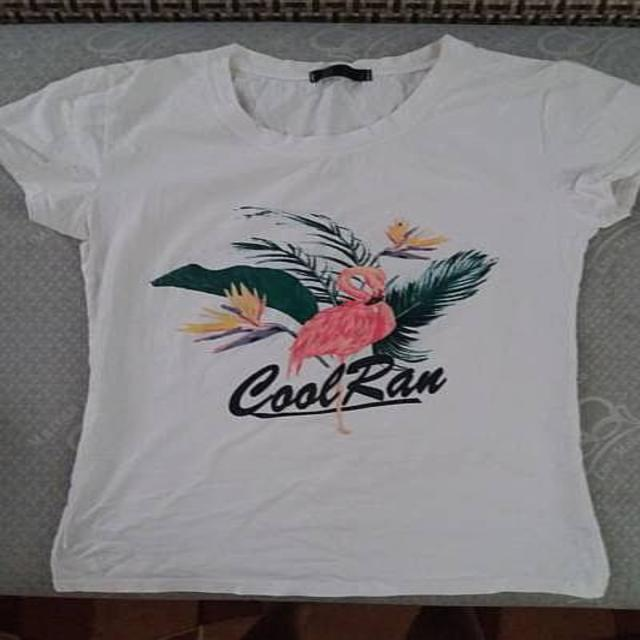T_SHIRT: (0, 27, 640, 611)
